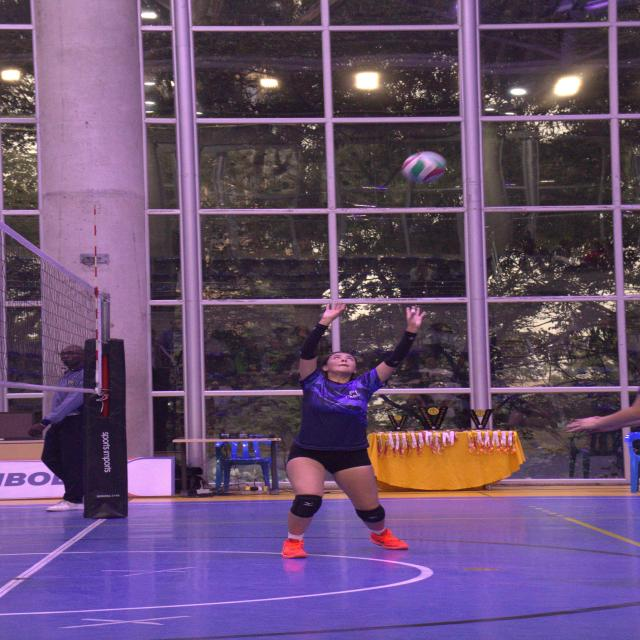volleyball: (403, 149, 449, 183)
